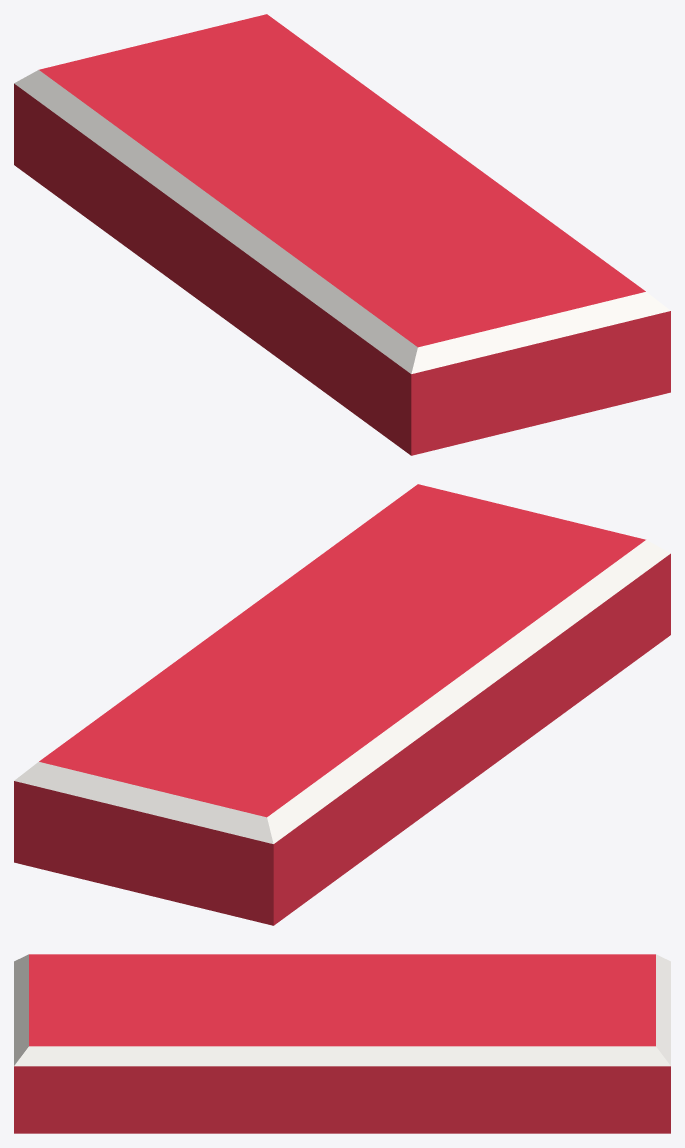
The model's file is SkipButton.fbx.
The picture shows the model from 3 angles, top to bottom: view 1: azimuth 30°, elevation 25°; view 2: azimuth 150°, elevation 25°; view 3: azimuth 270°, elevation 25°; orthographic projection. The views are drawn at different scales.
Visible parts, largest first — view 1: SkiptButton; view 2: SkiptButton; view 3: SkiptButton.
Boxes of the visible parts, <box> form: SkiptButton: <box>14,14,670,455</box>; SkiptButton: <box>14,484,670,925</box>; SkiptButton: <box>14,954,670,1133</box>.
Size of the model in its own units: 0.7545 by 0.2945 by 2.
